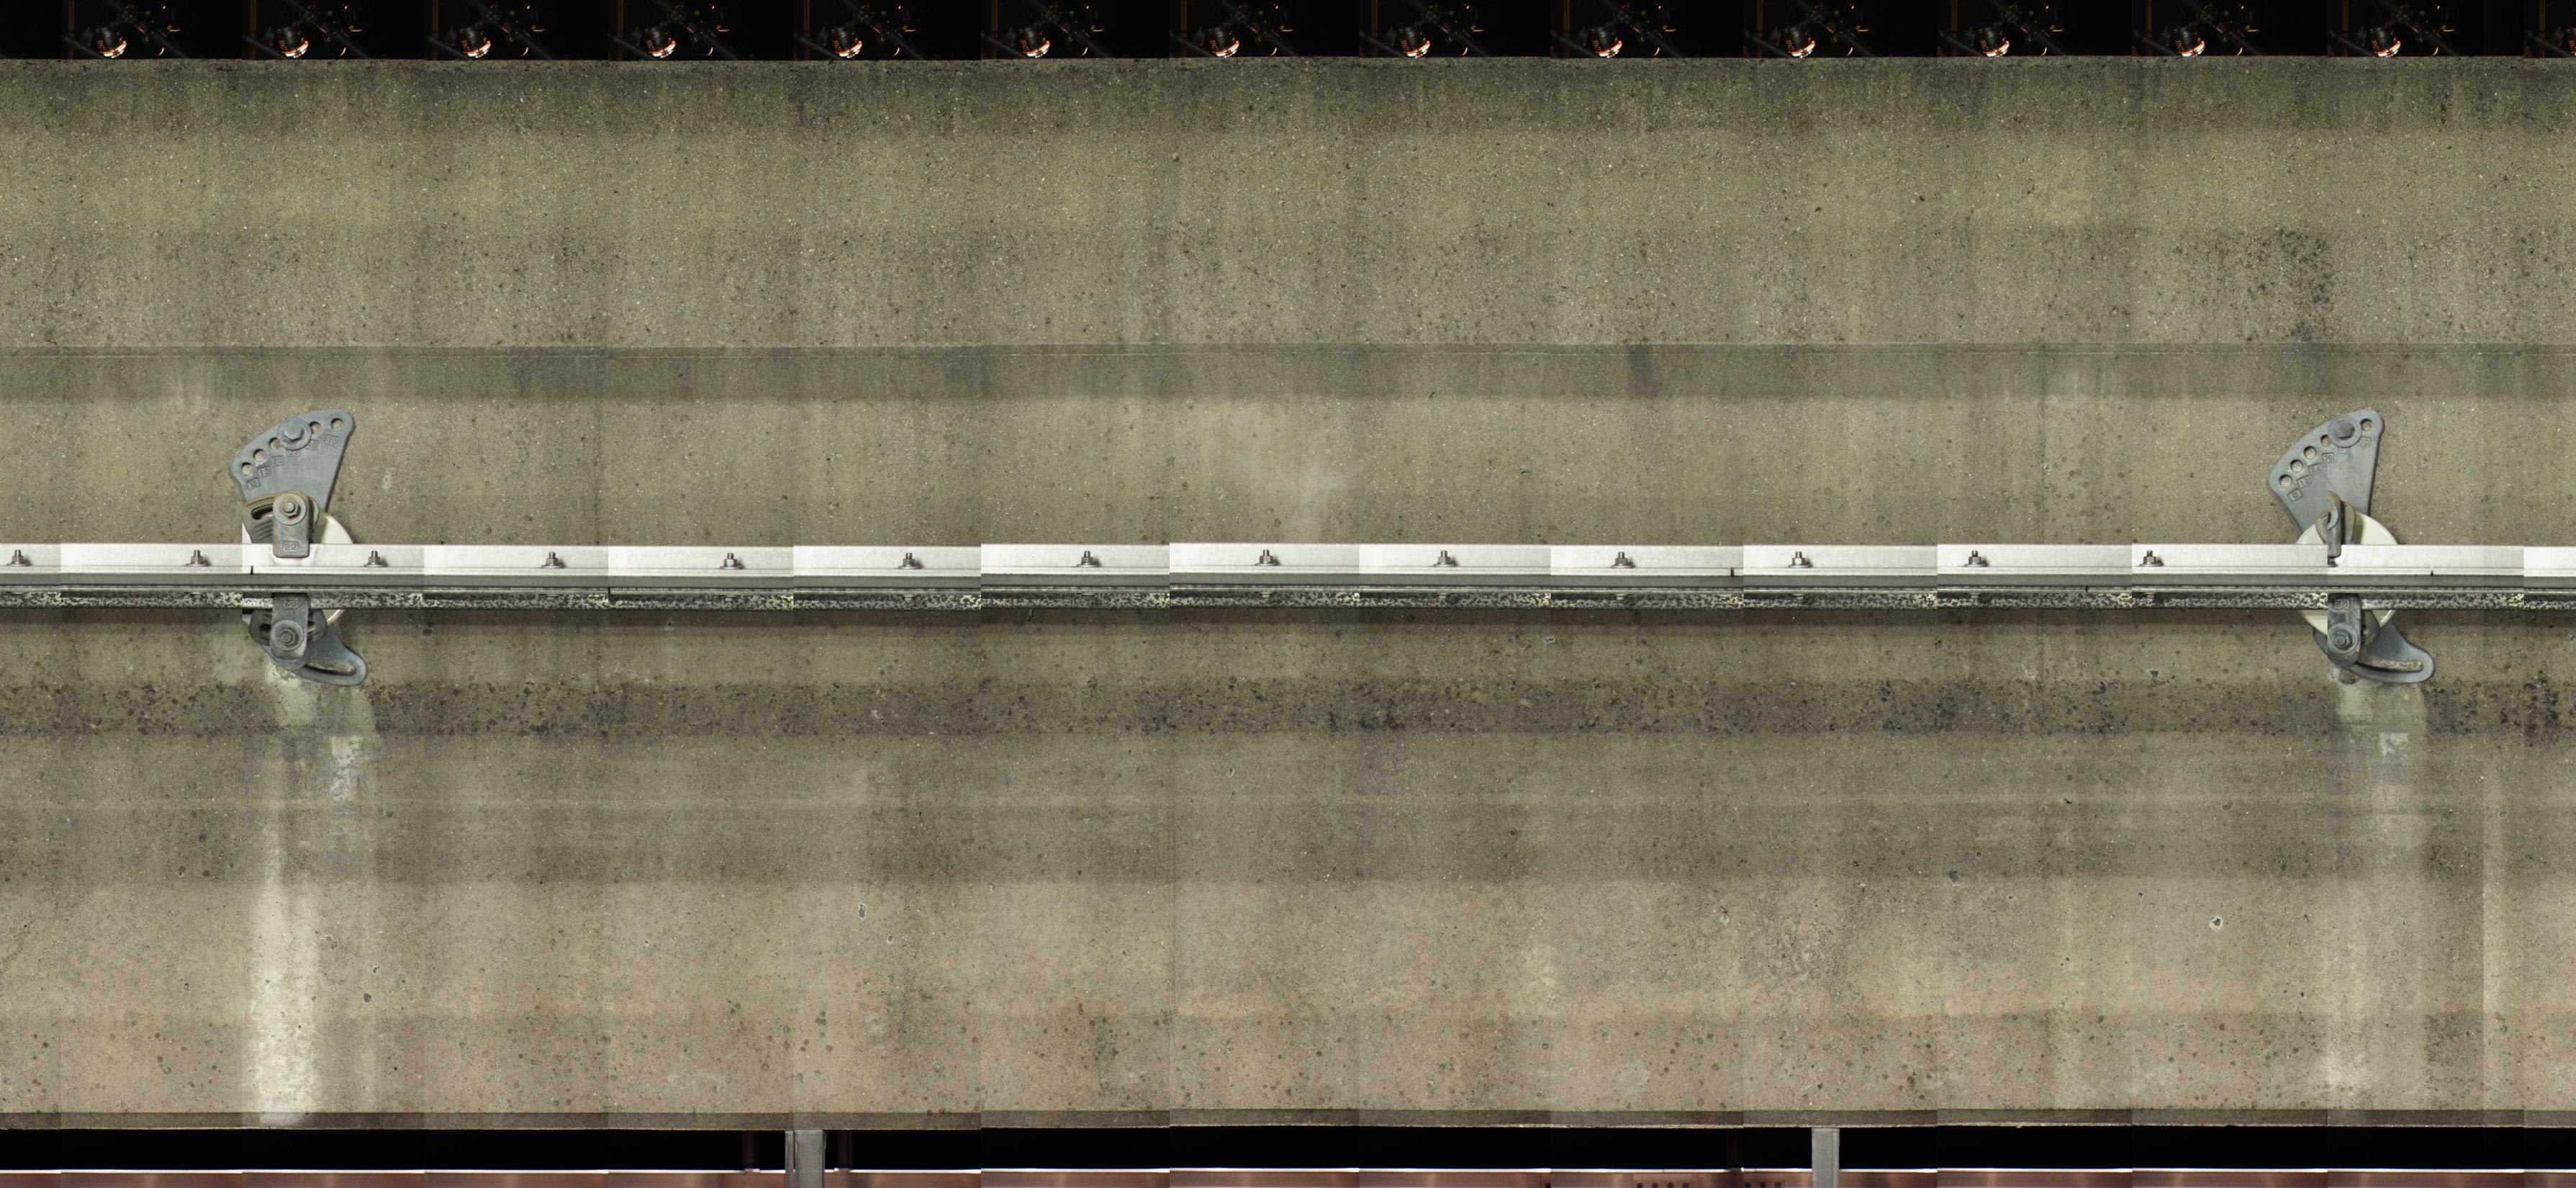concrete: (2, 608, 2569, 1127), (0, 56, 2561, 542)
